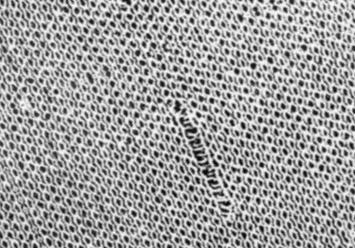slub: (156, 91, 243, 224)
